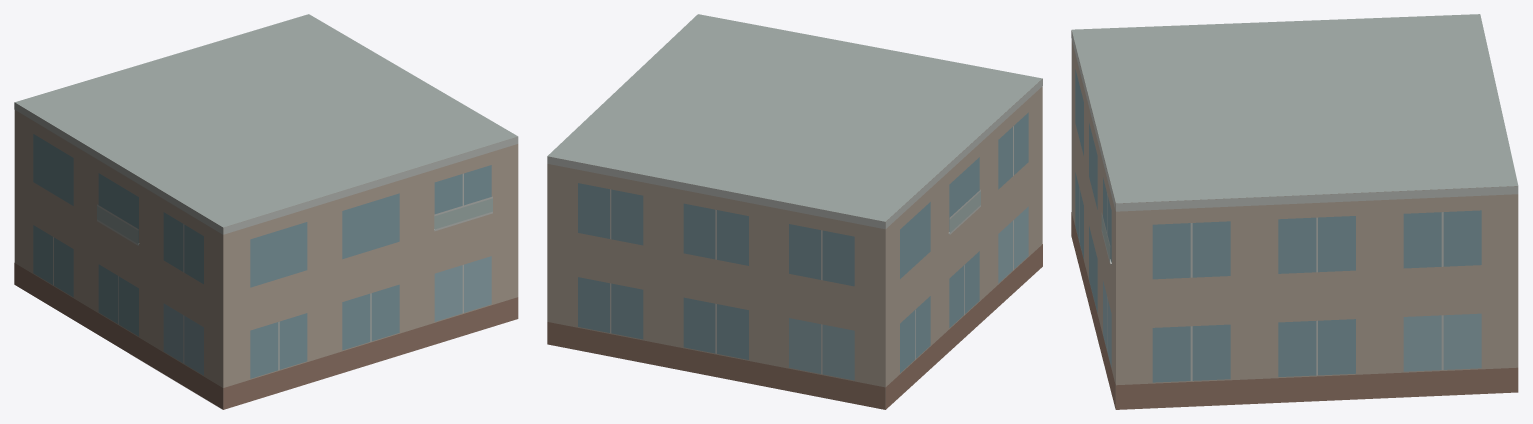
The model's file is survey-upis-32788764.glb.
The picture shows the model from 3 angles, left to right: view 1: azimuth 30°, elevation 25°; view 2: azimuth 150°, elevation 25°; view 3: azimuth 270°, elevation 25°; orthographic projection. The views are drawn at different scales.
Visible parts, largest first — view 1: survey-upis-32788764.tmp; view 2: survey-upis-32788764.tmp; view 3: survey-upis-32788764.tmp.
Boxes of the visible parts, x1,y1,x2,y2 form: survey-upis-32788764.tmp: (14, 14, 518, 409); survey-upis-32788764.tmp: (547, 14, 1042, 409); survey-upis-32788764.tmp: (1071, 14, 1518, 409).
Bounding box in the file's own units: 12.01 × 6.1 × 11.98.
